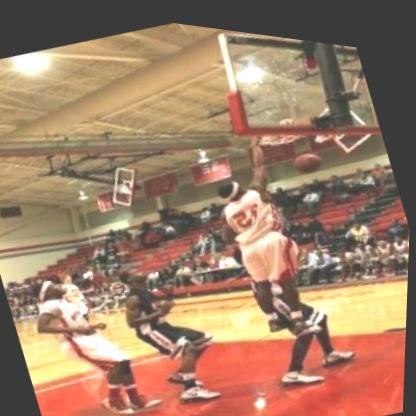basketball: (288, 134, 329, 179)
